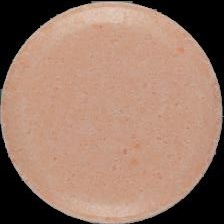63739-128: (0, 0, 224, 224)
